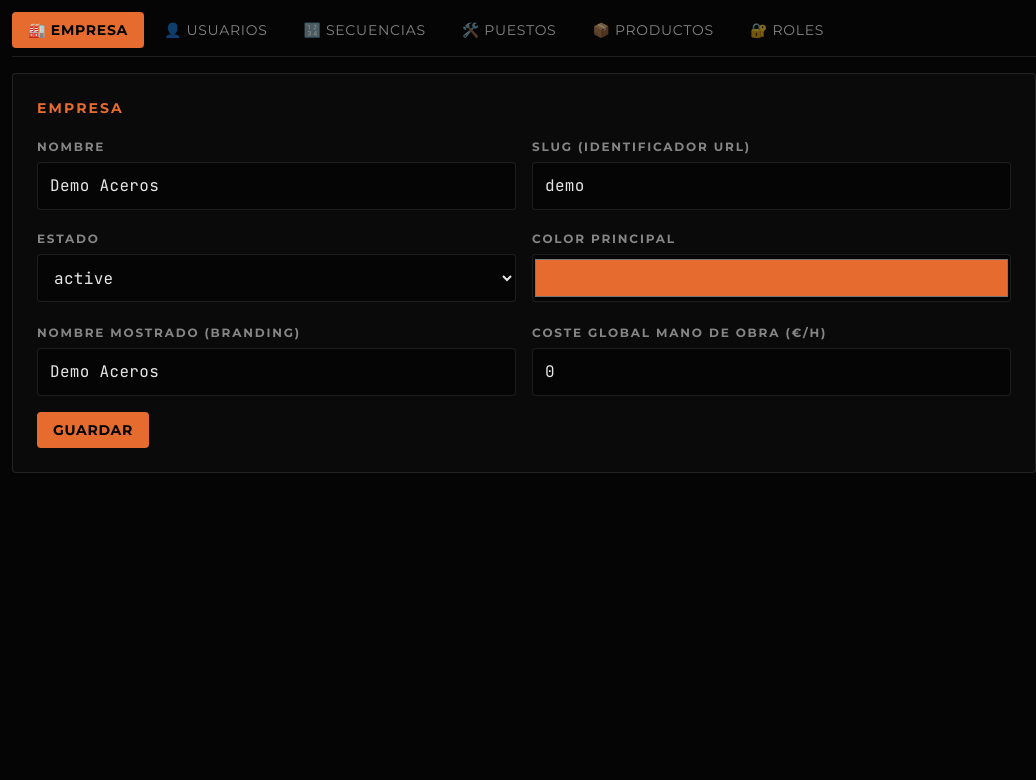
Test: Panel de Administración (spec 07) › lista los puestos de trabajo
The image size is (1036, 780).
What coordinates should you click on to do the following:
click the button "🛠️ Puestos"
I would click on:
 (509, 30)
Its box is [446,12,572,48].
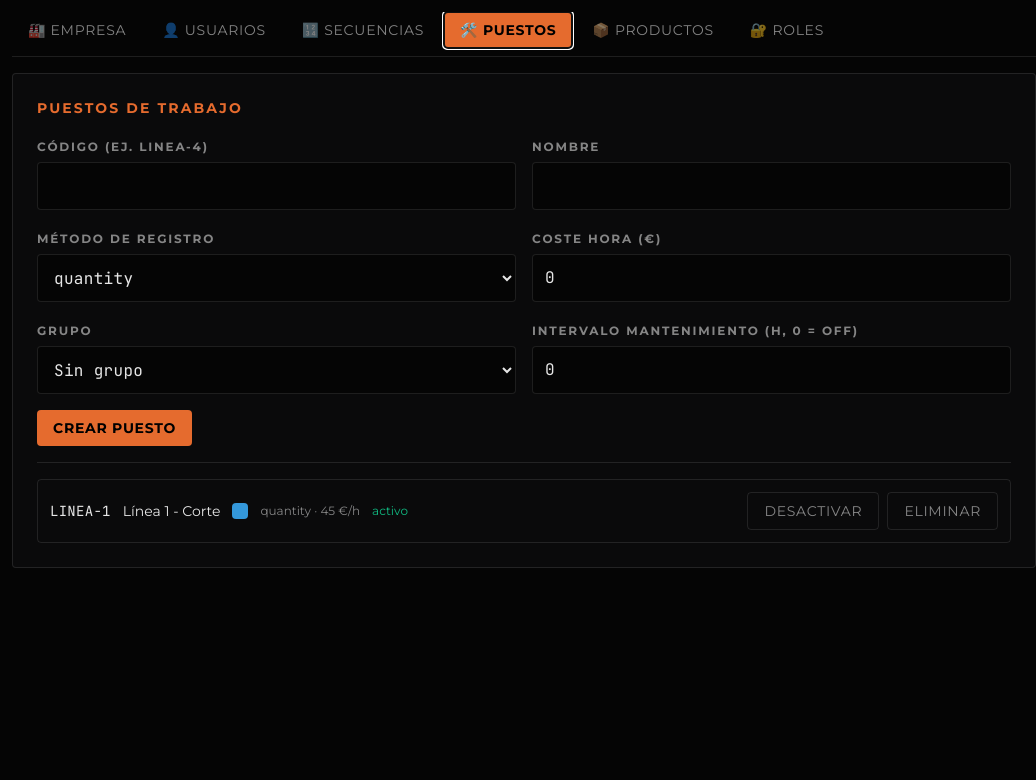
Now the text "LINEA-1" is shown, box [50,501,111,521]
Now the text "Línea 1 - Corte" is shown, box [123,501,220,521]
